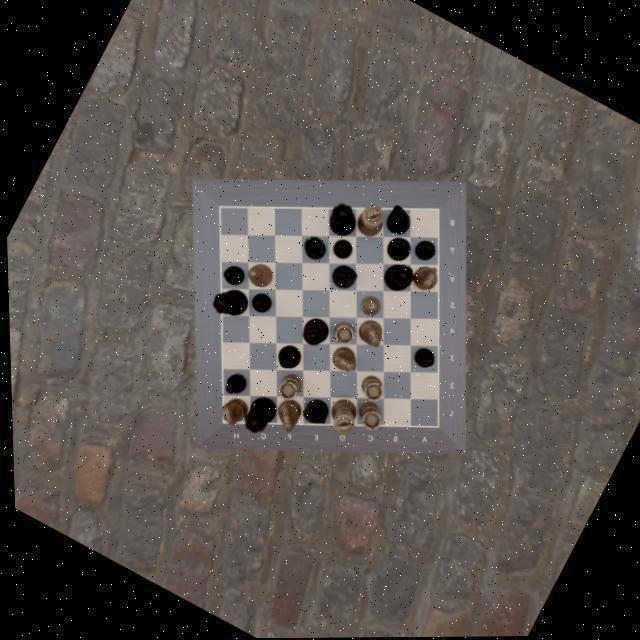chess-table-corners: (421, 195, 454, 226), (415, 412, 447, 442), (204, 196, 234, 226), (206, 410, 234, 438)
